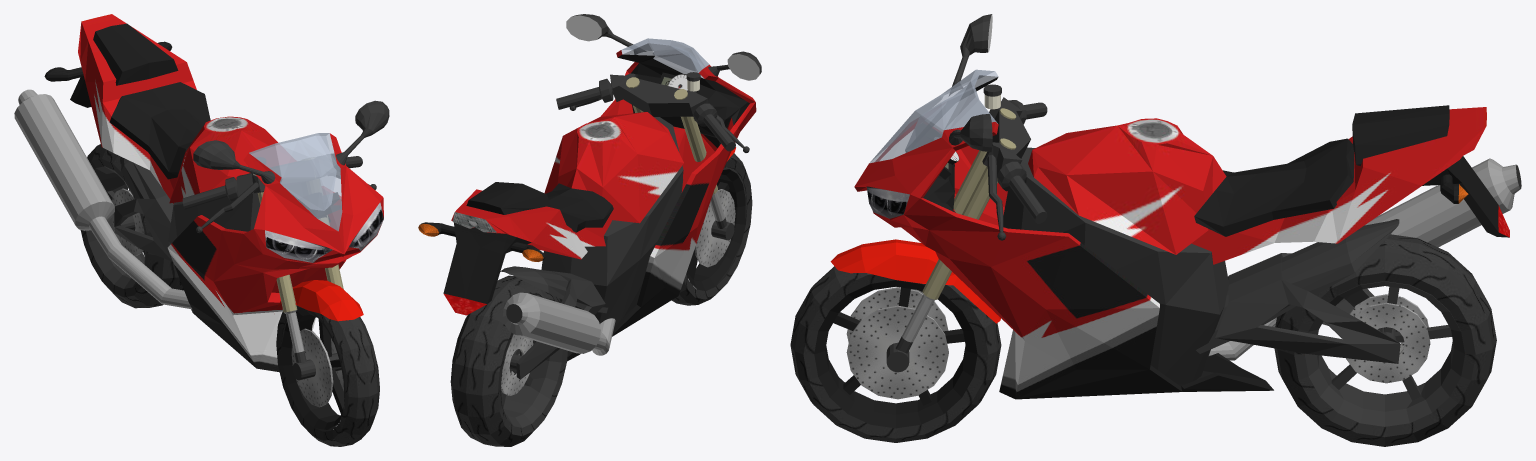
Rendered from sweethome3d-scopia-yamaha-yzr-r6-172.glb.
3 renders of one model, left to right at view 1: azimuth 30°, elevation 25°; view 2: azimuth 150°, elevation 25°; view 3: azimuth 270°, elevation 25°, orthographic. The views are drawn at different scales.
Parts seen in each view (by area): view 1: baseuv_Plane.004, baseuv.001_Plane.001, Circle.002, Plane.007_Plane.008, Plane.006_Plane.007, Circle.001, Plane, Torus.001, Cube, Torus.004_Torus.005, Cylinder, Circle; view 2: baseuv_Plane.004, Plane, Circle.002, Cube, baseuv.001_Plane.001, Torus.004_Torus.005, Circle.001, Plane.007_Plane.008, sweethome3d_window_mirror, Cylinder, Circle, Plane.006_Plane.007 (+1 smaller); view 3: baseuv_Plane.004, baseuv.001_Plane.001, Plane, Circle.001, Torus.004_Torus.005, Circle.002, Circle, Cube, Plane.007_Plane.008, Torus.001, Cylinder, Plane.006_Plane.007.
Part boxes in pixels (x1,y1,x2,y2): baseuv_Plane.004: [44, 14, 383, 407]; baseuv.001_Plane.001: [276, 305, 379, 446]; Circle.002: [14, 89, 191, 309]; Plane.007_Plane.008: [249, 133, 342, 231]; Plane.006_Plane.007: [193, 100, 389, 183]; Circle.001: [114, 195, 173, 261]; Plane: [168, 191, 298, 244]; Torus.001: [277, 280, 363, 321]; Cube: [182, 154, 376, 233]; Torus.004_Torus.005: [86, 166, 145, 288]; Cylinder: [257, 192, 343, 363]; Circle: [121, 157, 166, 199]; baseuv_Plane.004: [418, 50, 756, 446]; Plane: [541, 117, 683, 325]; Circle.002: [502, 292, 615, 355]; Cube: [556, 73, 749, 152]; baseuv.001_Plane.001: [672, 153, 752, 305]; Torus.004_Torus.005: [500, 334, 562, 427]; Circle.001: [516, 270, 605, 379]; Plane.007_Plane.008: [621, 38, 709, 78]; sweethome3d_window_mirror: [566, 15, 759, 80]; Cylinder: [626, 77, 727, 228]; Circle: [500, 266, 607, 313]; Plane.006_Plane.007: [572, 14, 761, 76]; baseuv_Plane.004: [846, 77, 1509, 446]; baseuv.001_Plane.001: [790, 266, 1001, 442]; Plane: [1003, 147, 1229, 383]; Circle.001: [1215, 253, 1400, 363]; Torus.004_Torus.005: [1304, 281, 1464, 426]; Circle.002: [1208, 158, 1521, 360]; Circle: [1196, 219, 1399, 353]; Cube: [982, 97, 1047, 240]; Plane.007_Plane.008: [870, 69, 998, 162]; Torus.001: [830, 239, 1000, 323]; Cylinder: [895, 108, 1016, 353]; Plane.006_Plane.007: [949, 14, 992, 152].
Size of the model in its own units: 79.55 by 115 by 203.
Materials: 18 (9 with a texture image).
